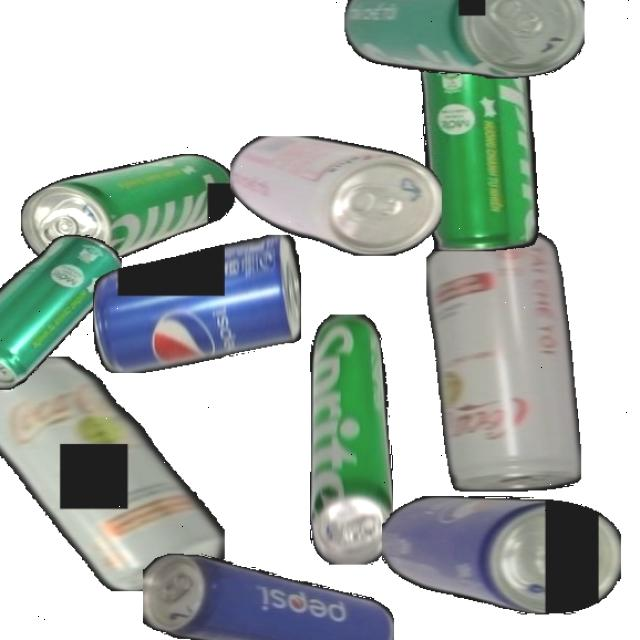debris: (0, 356, 225, 592), (426, 228, 582, 493), (92, 234, 301, 373), (381, 496, 621, 615), (229, 136, 442, 256), (21, 153, 236, 267), (421, 52, 539, 251), (142, 552, 394, 640), (309, 313, 393, 565), (343, 0, 585, 79), (0, 234, 122, 390)
